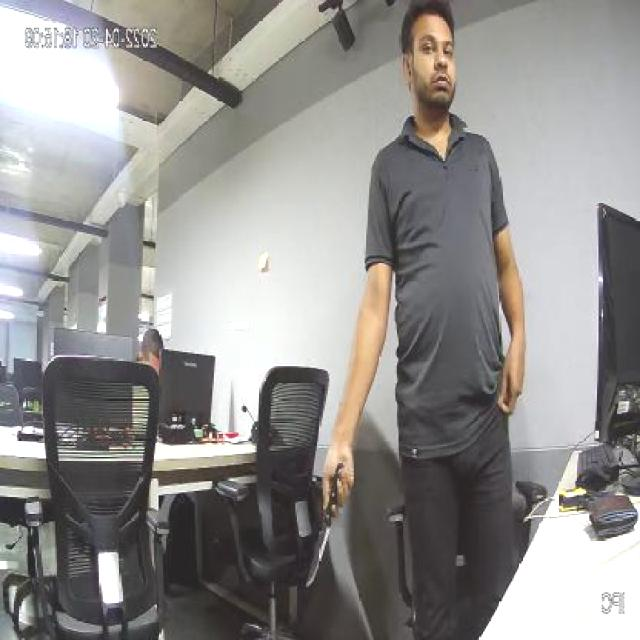knife: (299, 477, 346, 605)
